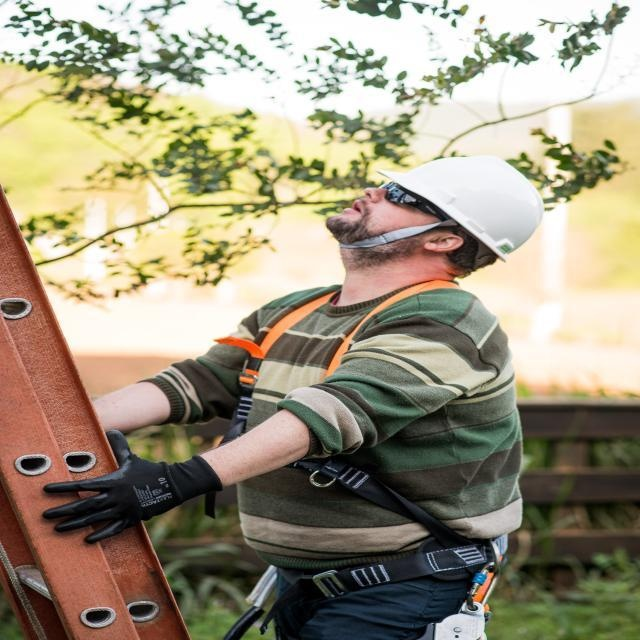Arnes_seguridad: (200, 279, 521, 616)
